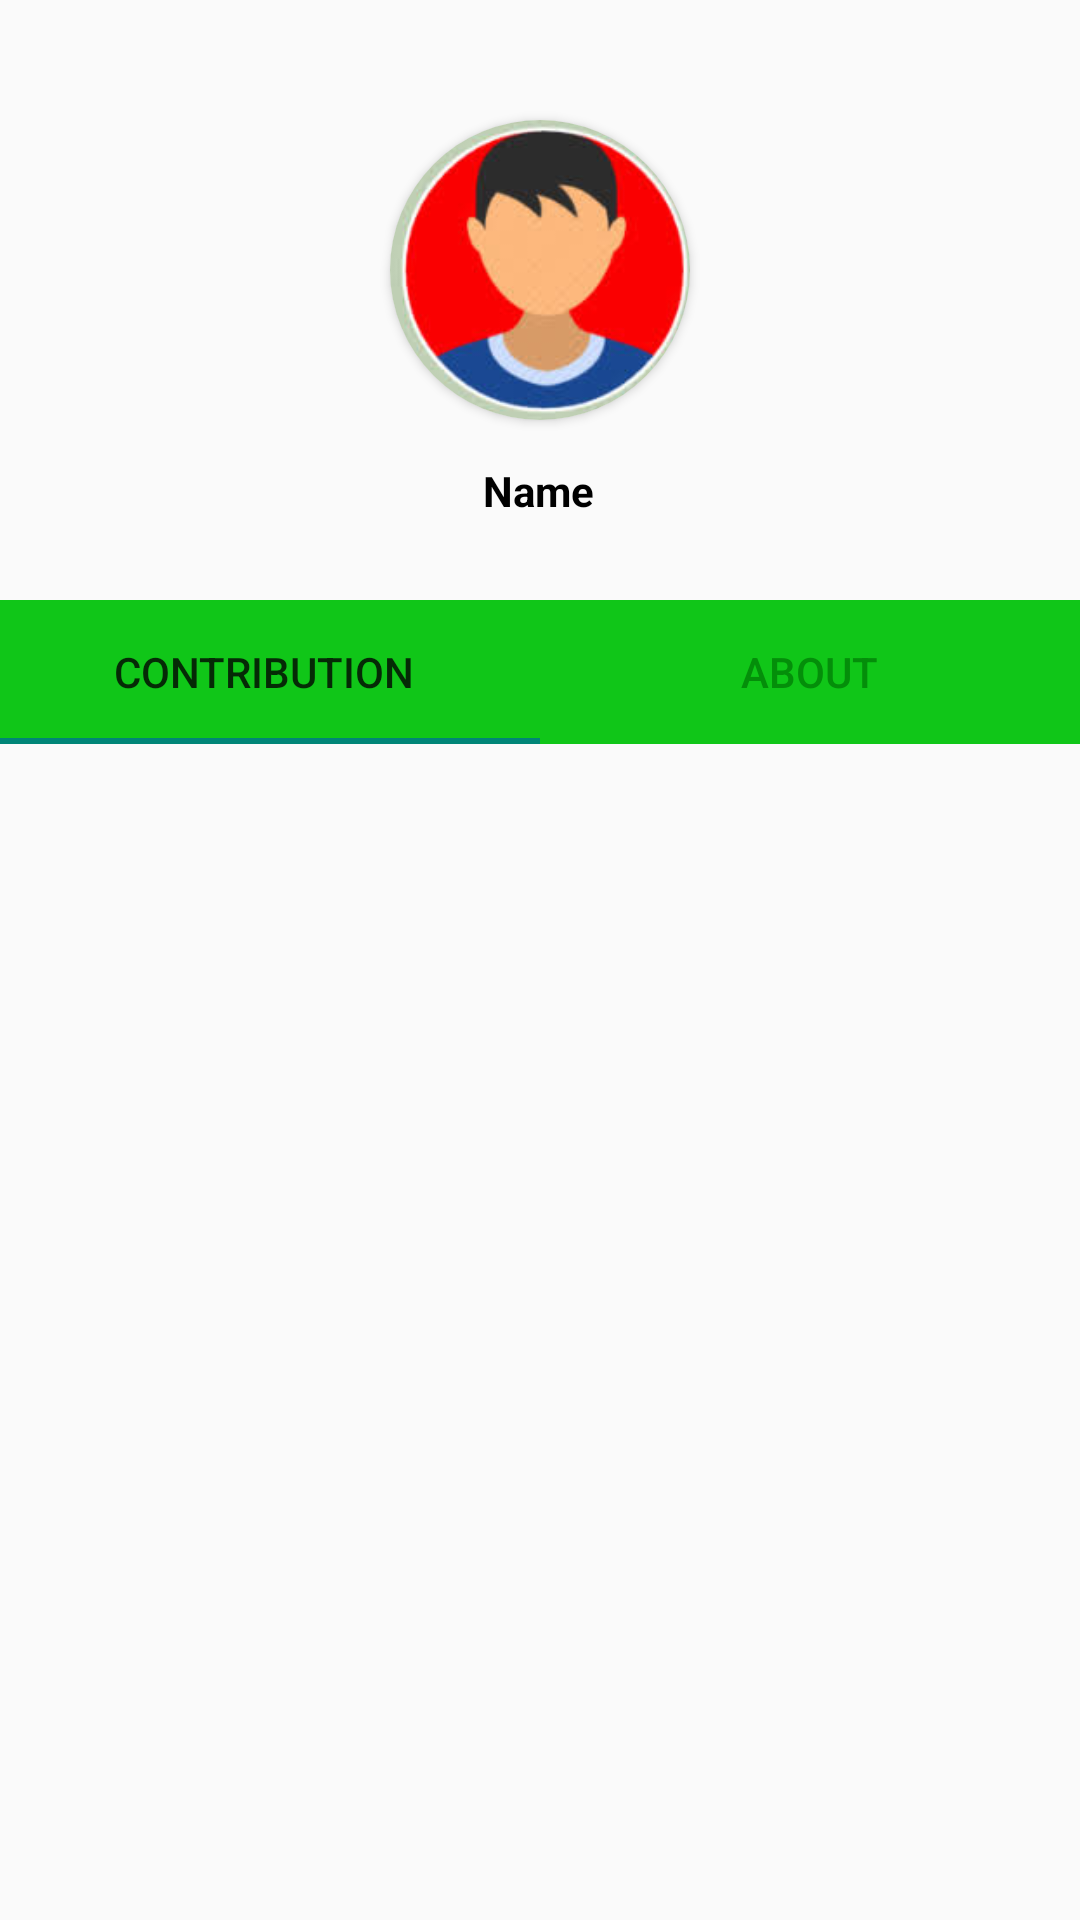

Icon bounding boxes for this 1080px x 1920px phone screenshot, format (x1,y1,x2,y2):
profile: (390,120,690,420)
